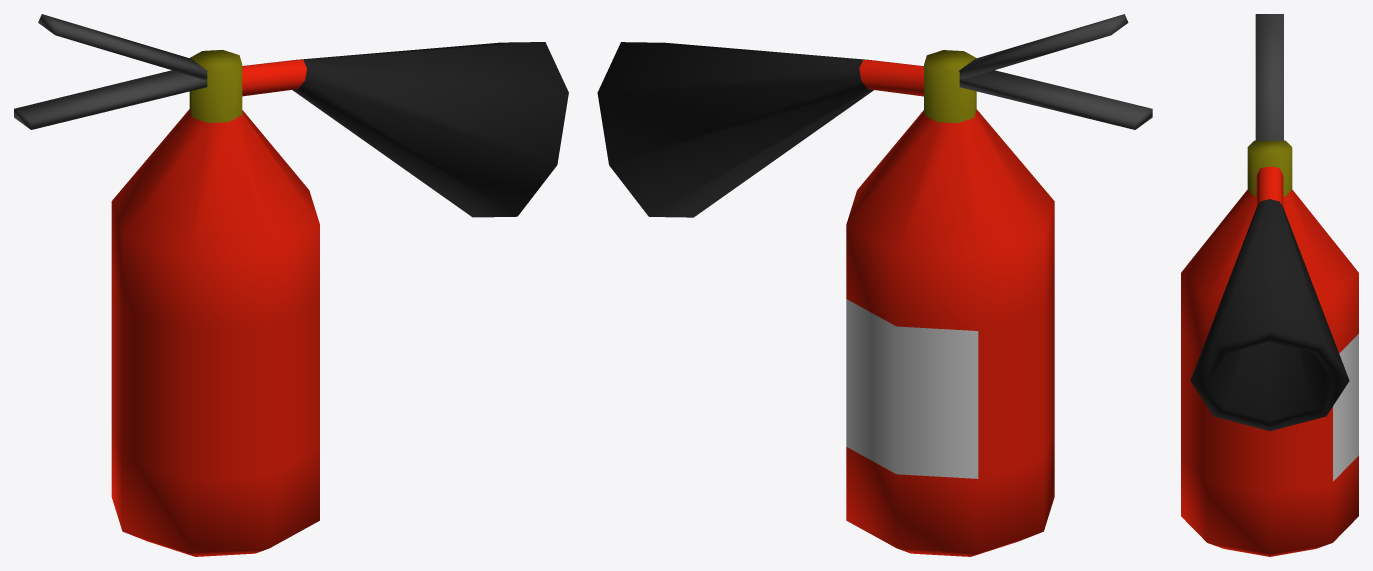
3 views of the same model, side by side, from view 1: azimuth 30°, elevation 25°; view 2: azimuth 150°, elevation 25°; view 3: azimuth 270°, elevation 25° (orthographic). The views are drawn at different scales.
Visible parts, largest first — view 1: Cylinder; view 2: Cylinder; view 3: Cylinder.
Part boxes in pixels (bbox=[...]): Cylinder: bbox=[14, 14, 568, 556]; Cylinder: bbox=[597, 14, 1152, 556]; Cylinder: bbox=[1181, 14, 1358, 556].
Size of the model in its own units: 5.6 by 5.57 by 2.
